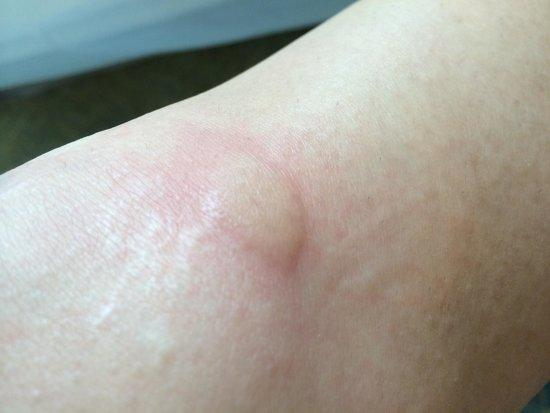Mosquito: (209, 149, 324, 271)
